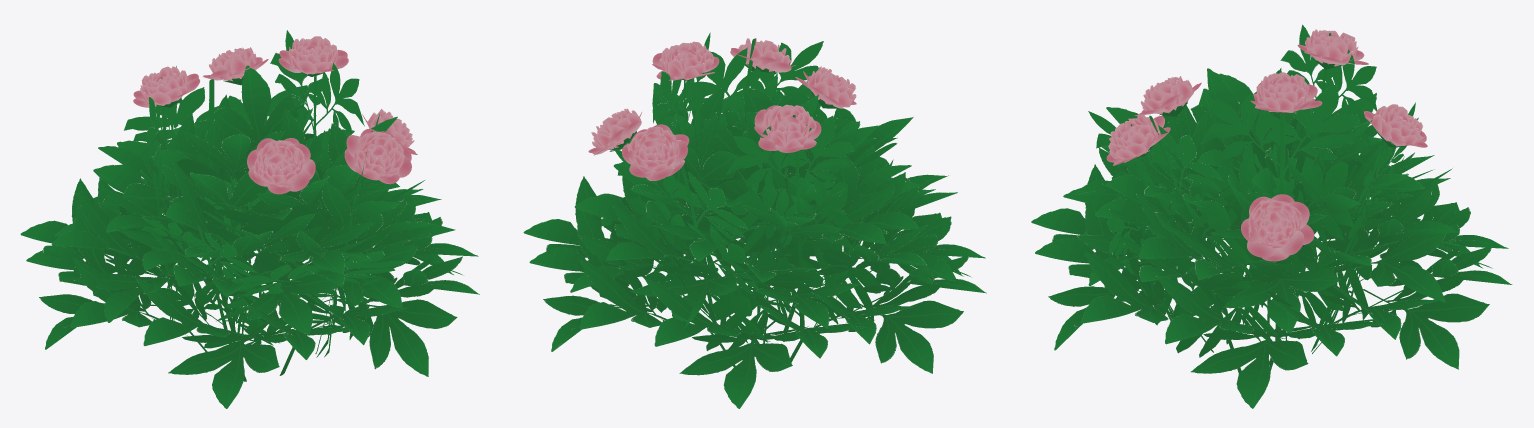
Rendered from PT_Peony_03.fbx.
3 renders of one model, left to right at view 1: azimuth 30°, elevation 25°; view 2: azimuth 150°, elevation 25°; view 3: azimuth 270°, elevation 25°, orthographic. The views are drawn at different scales.
Parts seen in each view (by area): view 1: PT_Peony_03_LOD0; view 2: PT_Peony_03_LOD0; view 3: PT_Peony_03_LOD0.
Boxes of the visible parts, x1,y1,x2,y2 form: PT_Peony_03_LOD0: (20, 30, 479, 408); PT_Peony_03_LOD0: (523, 32, 986, 408); PT_Peony_03_LOD0: (1031, 24, 1512, 408).
Size of what is drawn, in the model's own units: 190 by 125 by 177.
